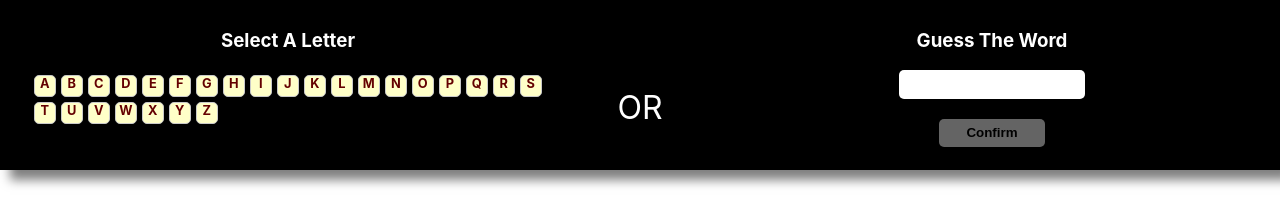
it: Player › should only allow letters to be input when guessing word
In the field with test id "txtGuessWord": (992, 85) [899,70,1085,99], type "xyz123-abc"
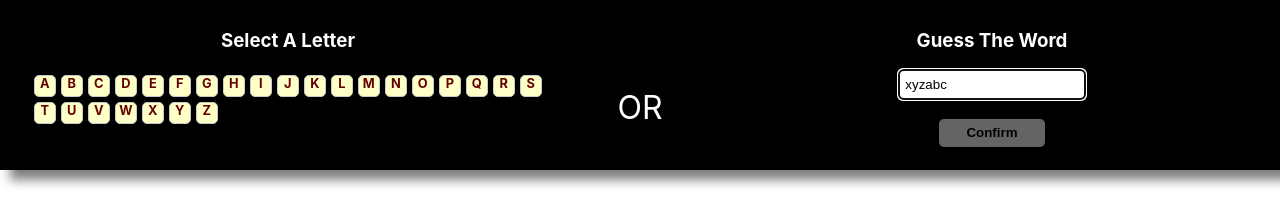
Check: the field with test id "txtGuessWord" holds "xyzabc", box [899,70,1085,99]
